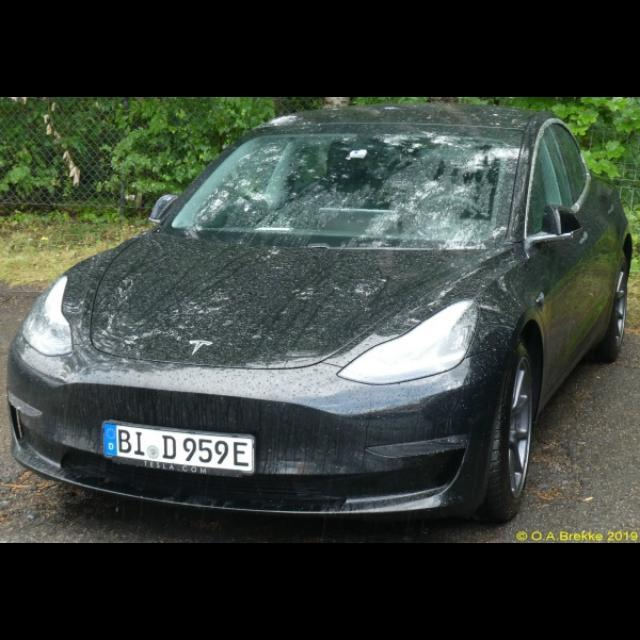license-plates: (102, 422, 253, 474)
